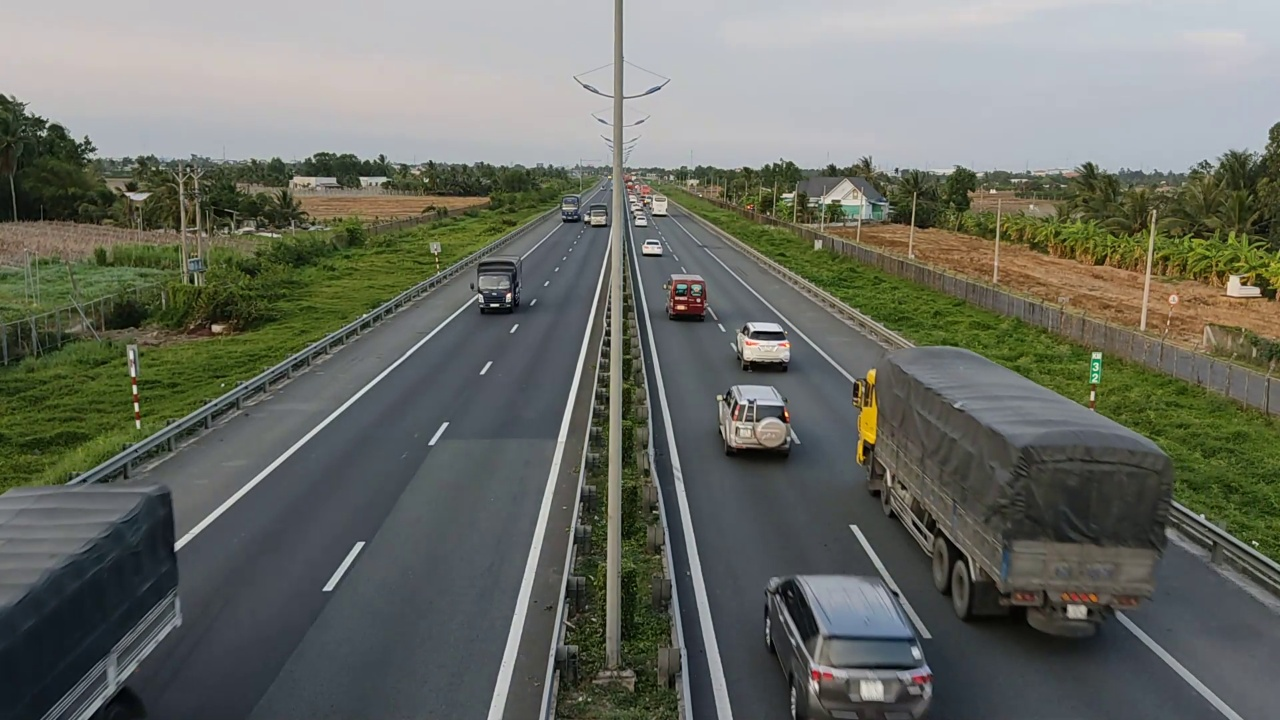car: (762, 573, 934, 719), (717, 385, 797, 455), (733, 320, 792, 371), (665, 274, 707, 320), (641, 238, 663, 256)
truck: (850, 345, 1174, 639), (1, 479, 184, 715), (472, 250, 523, 316)
